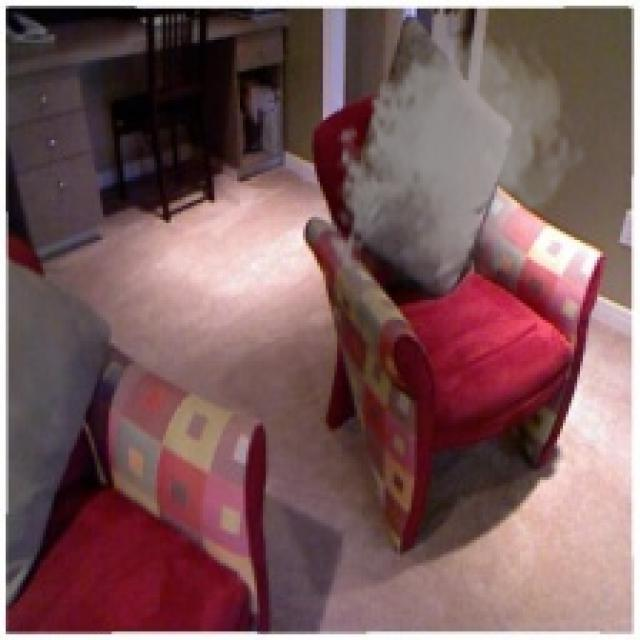Smoke: (322, 25, 588, 308)
